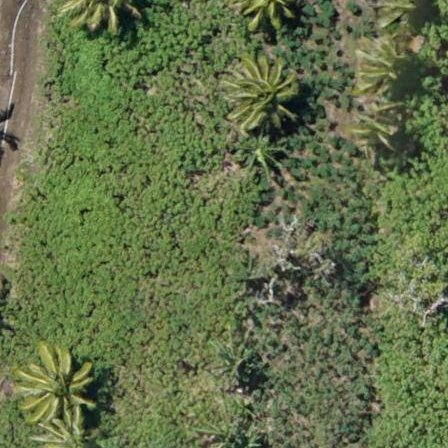palm_tree: (12, 338, 100, 433), (222, 53, 297, 133), (356, 34, 420, 102)
